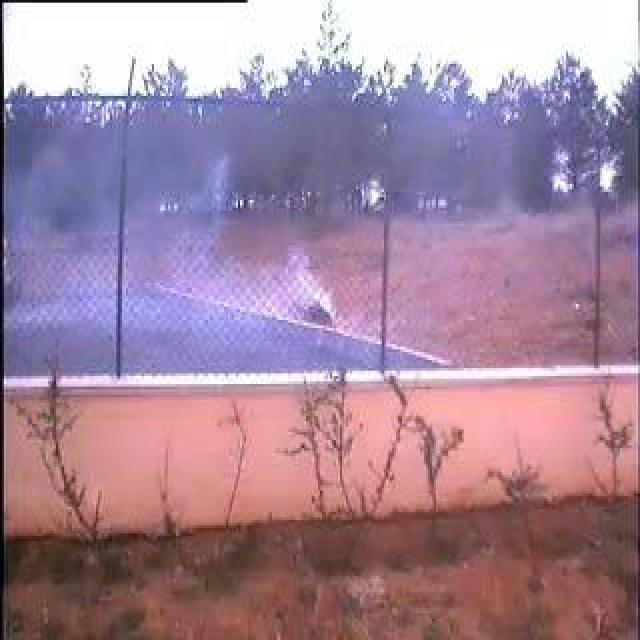Smoke: (121, 95, 383, 377)
